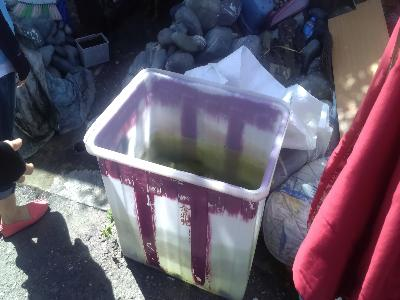box: (72, 32, 111, 67)
bucket: (81, 67, 291, 300)
